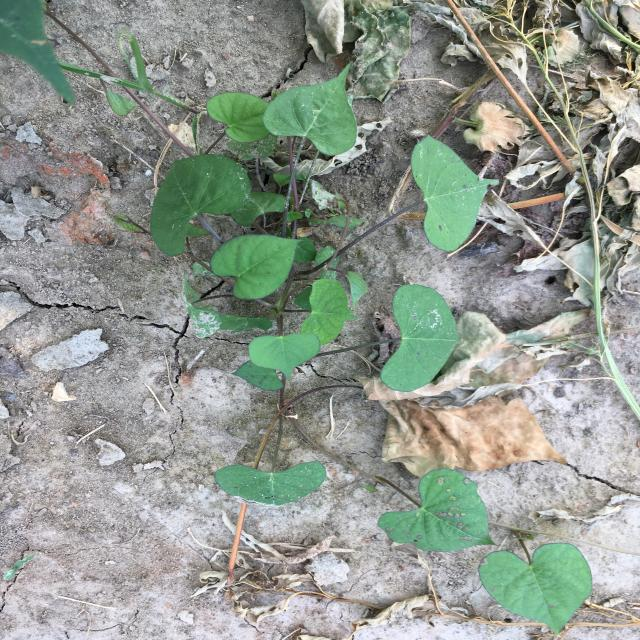MorningGlory: (97, 60, 593, 637)
